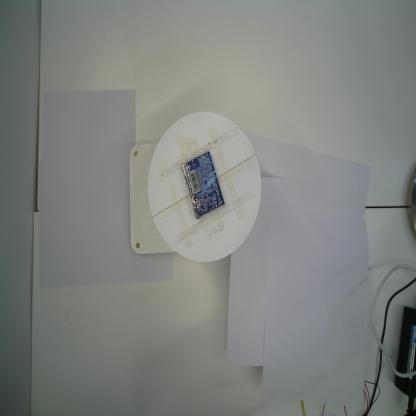Gum: (180, 150, 226, 222)
